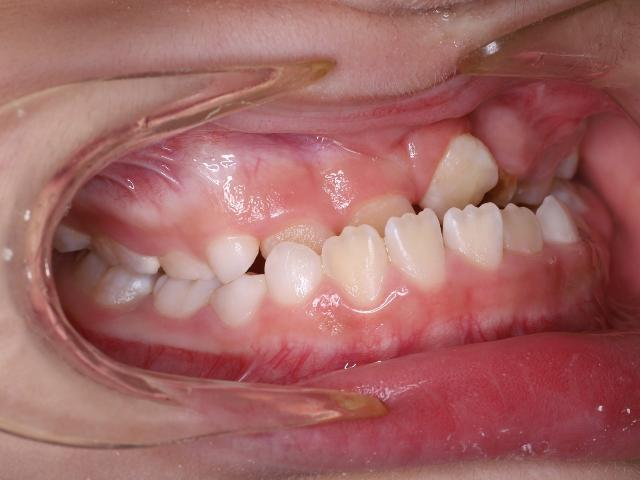molar class II 1/2: (72, 230, 162, 314)
